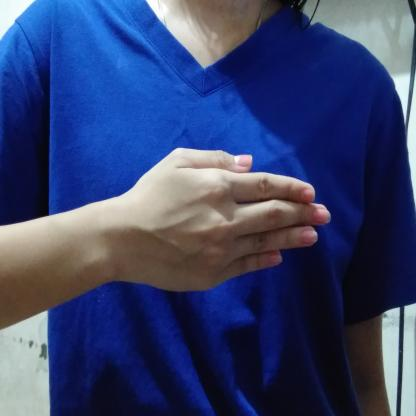ready: (98, 145, 336, 296)
